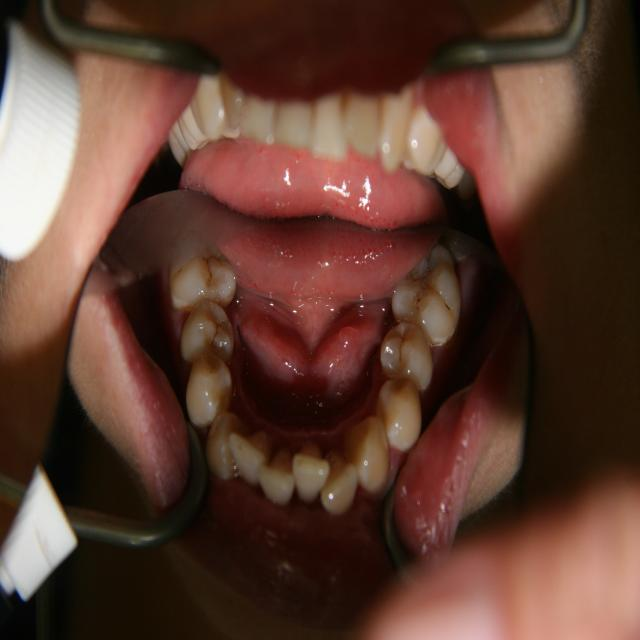tooth: (388, 244, 469, 355), (162, 232, 244, 322), (376, 318, 439, 396), (181, 358, 240, 441), (344, 412, 396, 500), (178, 298, 241, 370), (375, 371, 427, 456), (290, 435, 338, 512), (252, 443, 301, 513), (225, 421, 273, 492), (202, 404, 242, 487), (315, 457, 364, 521), (443, 232, 477, 270)
